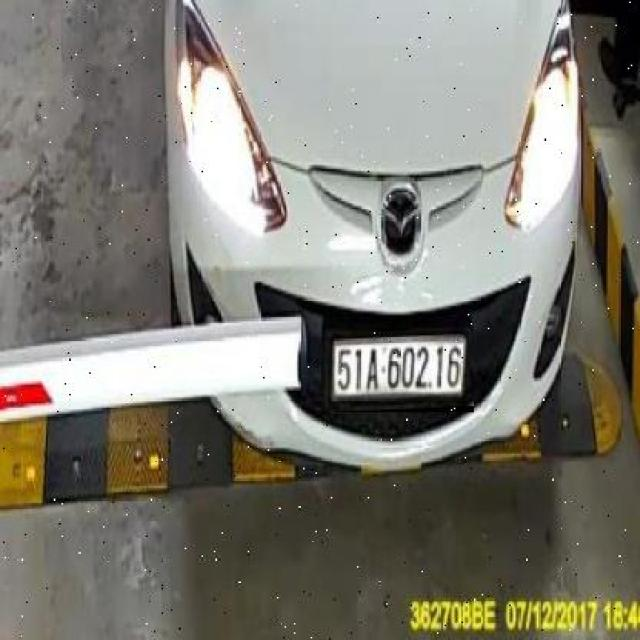number_plate: (323, 328, 474, 412)
